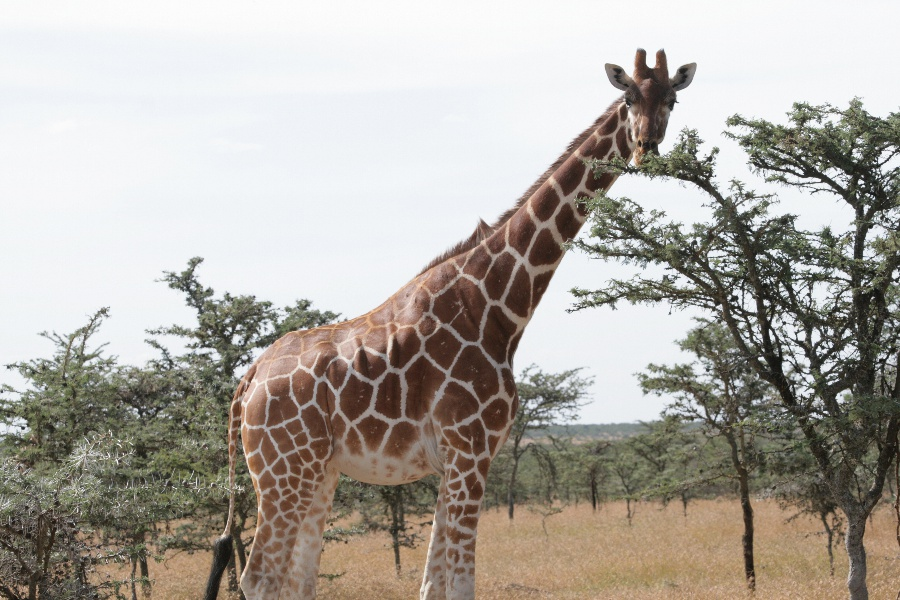giraffe: (208, 38, 699, 595)
